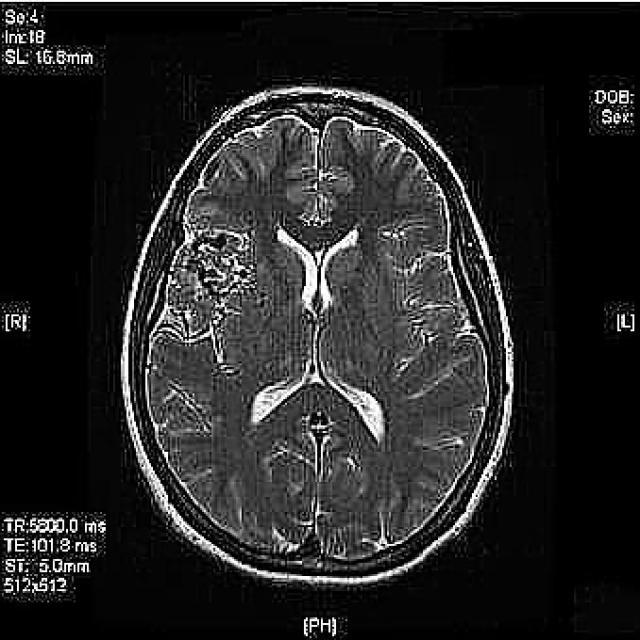notumor: (123, 87, 512, 591)
